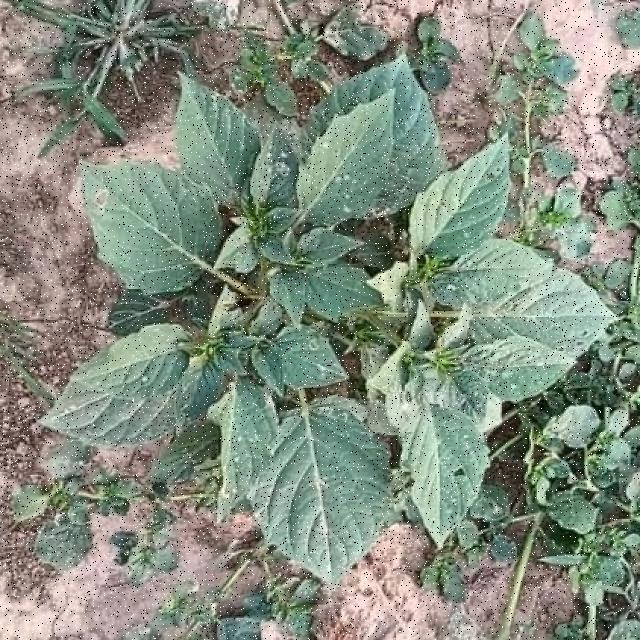weed: (41, 56, 616, 585)
